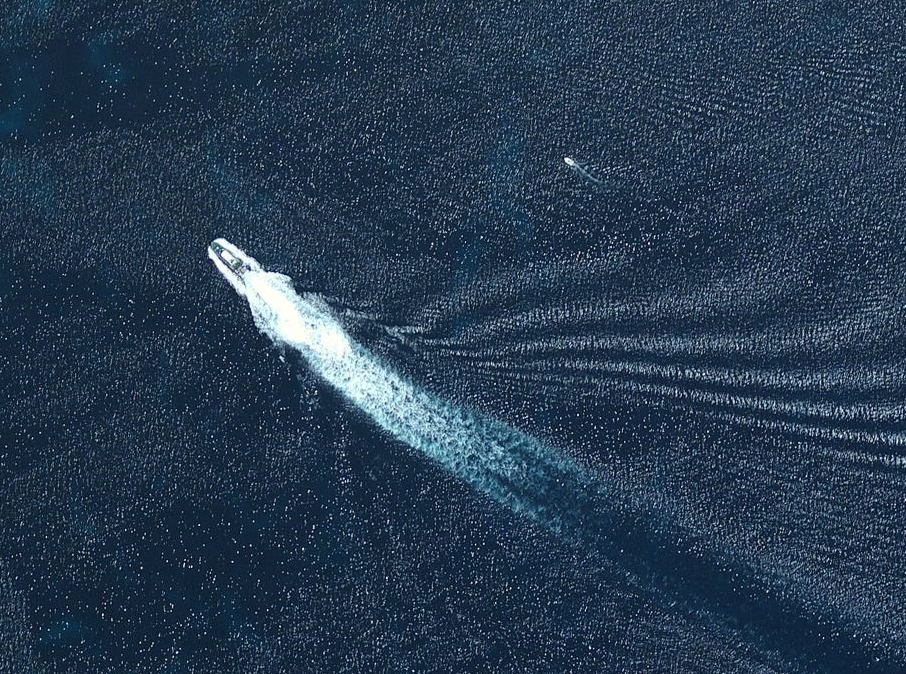ship: (201, 234, 273, 299), (561, 155, 578, 169)
